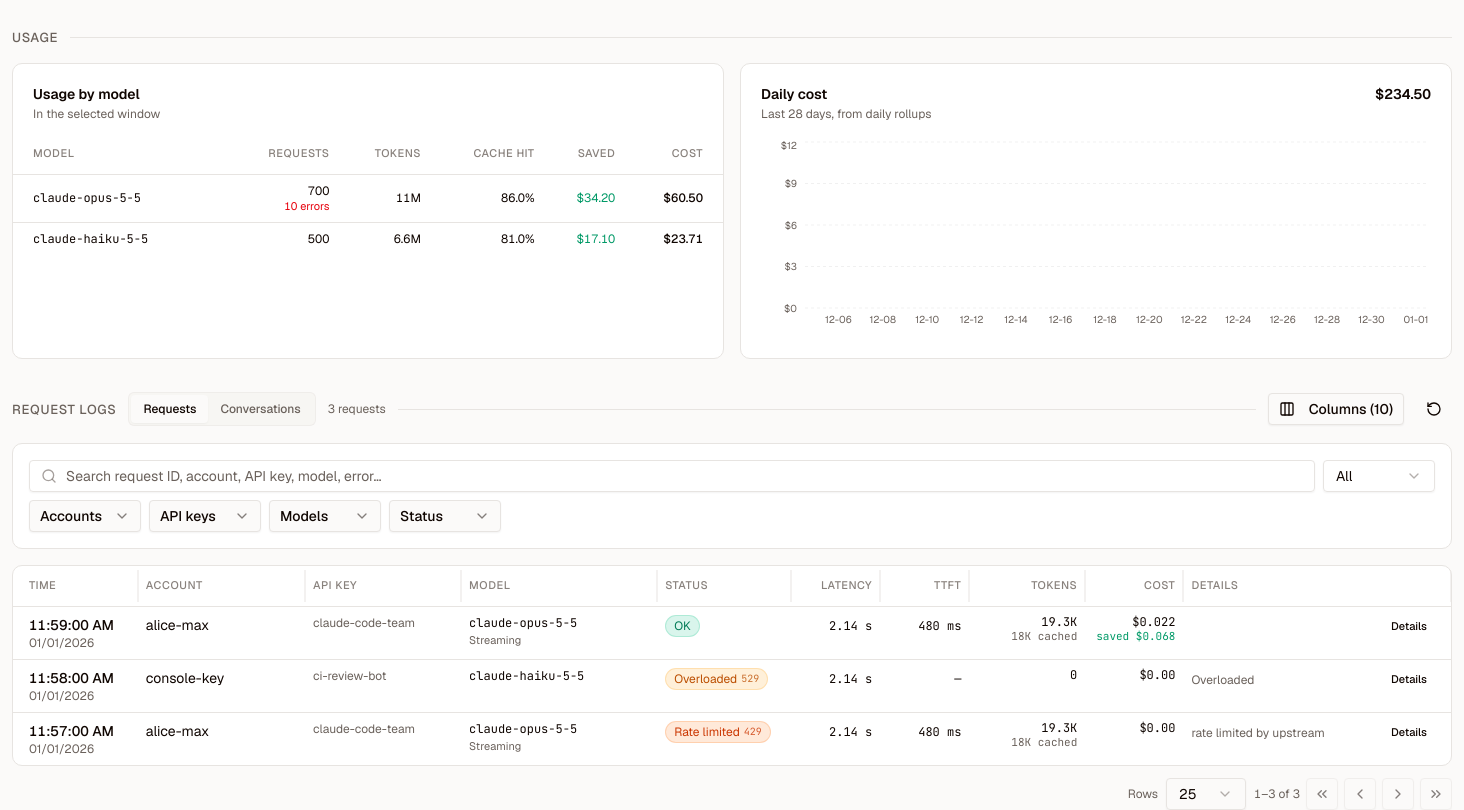
Scenario: DashboardPage › searches request logs after a debounce
(page scrolled)
Check: the row with test id "request-row-req_0001" is shown, box [13, 606, 1451, 660]
In the field named "Search request logs": (672, 476) [29, 460, 1315, 492], type "ci-review"
(page scrolled)
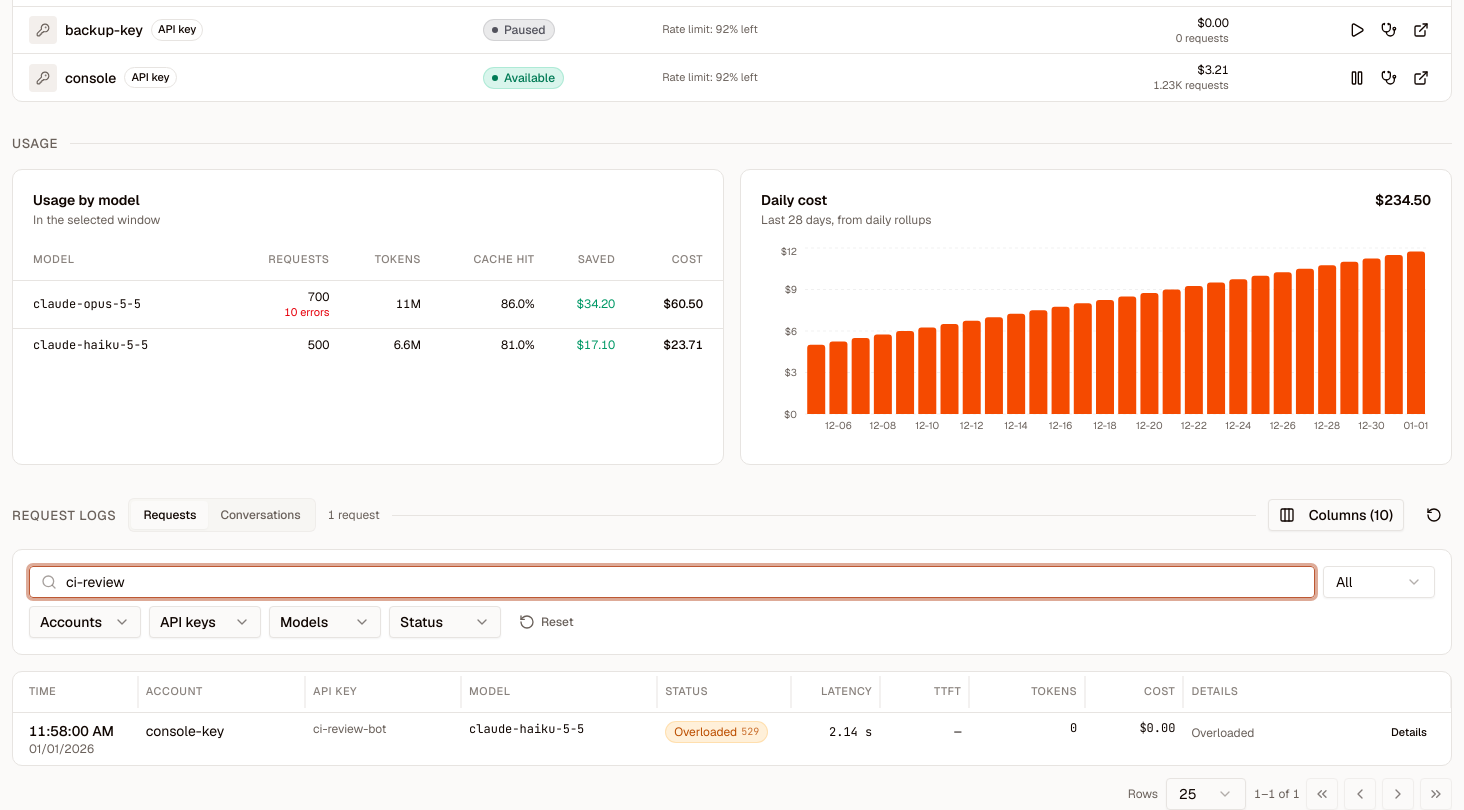
Check: the row with test id "request-row-req_0002" is shown, box [13, 712, 1451, 765]
Check: the row with test id "request-row-req_0001" is gone
